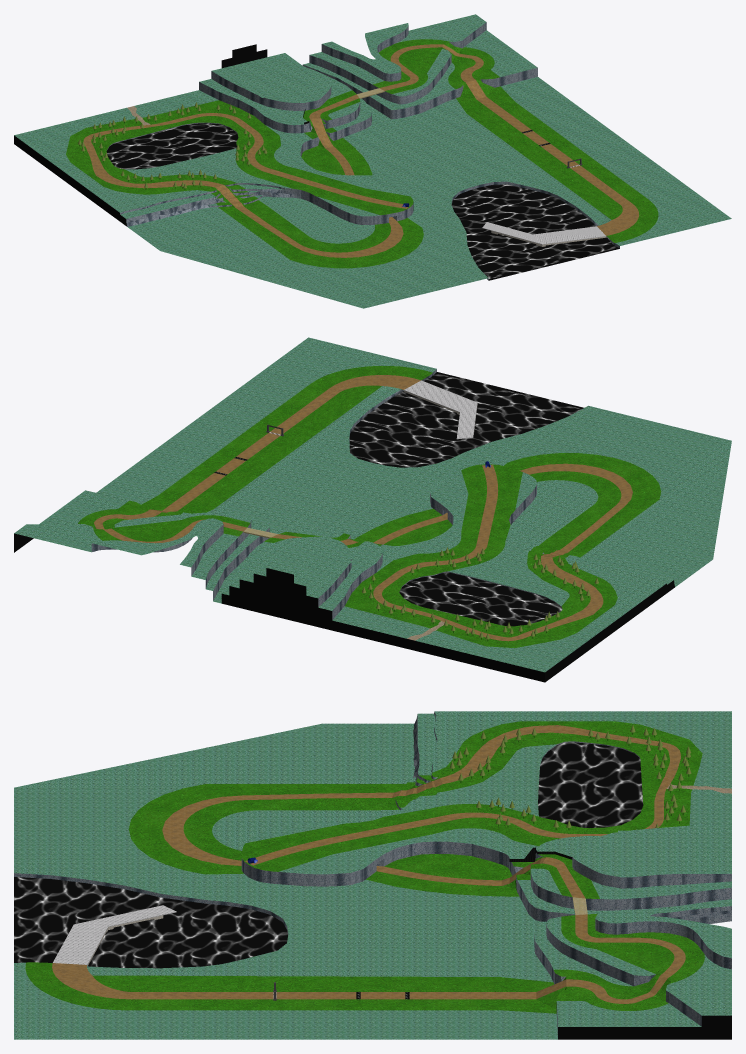
The picture shows the model from 3 angles, top to bottom: view 1: azimuth 30°, elevation 25°; view 2: azimuth 150°, elevation 25°; view 3: azimuth 270°, elevation 25°; orthographic projection. The views are drawn at different scales.
Parts seen in each view (by area): view 1: Mario_Kart_Custom_Track_Idea_-_Toad_Valley__v1_3__by_NotAva. (×6), Mario_Kart_Custom_Track_Idea_-_Toad_Valley__v1_3__by_NotAva, Mario_Kart_Custom_Track_Idea_-_Toad_Valley__v1_3__by_NotAvai; view 2: Mario_Kart_Custom_Track_Idea_-_Toad_Valley__v1_3__by_NotAva. (×6), Mario_Kart_Custom_Track_Idea_-_Toad_Valley__v1_3__by_NotAva, Mario_Kart_Custom_Track_Idea_-_Toad_Valley__v1_3__by_NotAvai; view 3: Mario_Kart_Custom_Track_Idea_-_Toad_Valley__v1_3__by_NotAva. (×6), Mario_Kart_Custom_Track_Idea_-_Toad_Valley__v1_3__by_NotAva, Mario_Kart_Custom_Track_Idea_-_Toad_Valley__v1_3__by_NotAvai.
Part boxes in pixels (x1,y1,x2,y2): Mario_Kart_Custom_Track_Idea_-_Toad_Valley__v1_3__by_NotAva. (×6): (14,14,731,308); Mario_Kart_Custom_Track_Idea_-_Toad_Valley__v1_3__by_NotAva: (83,44,639,257); Mario_Kart_Custom_Track_Idea_-_Toad_Valley__v1_3__by_NotAvai: (14,44,267,226); Mario_Kart_Custom_Track_Idea_-_Toad_Valley__v1_3__by_NotAva. (×6): (14,337,731,672); Mario_Kart_Custom_Track_Idea_-_Toad_Valley__v1_3__by_NotAva: (94,375,632,641); Mario_Kart_Custom_Track_Idea_-_Toad_Valley__v1_3__by_NotAvai: (14,533,674,682); Mario_Kart_Custom_Track_Idea_-_Toad_Valley__v1_3__by_NotAva. (×6): (14,711,731,1039); Mario_Kart_Custom_Track_Idea_-_Toad_Valley__v1_3__by_NotAva: (52,725,685,1003); Mario_Kart_Custom_Track_Idea_-_Toad_Valley__v1_3__by_NotAvai: (558,1015,731,1039).
Size of the model in its own units: 202827 by 25531 by 194789.
Materials: 24 (24 with a texture image).
